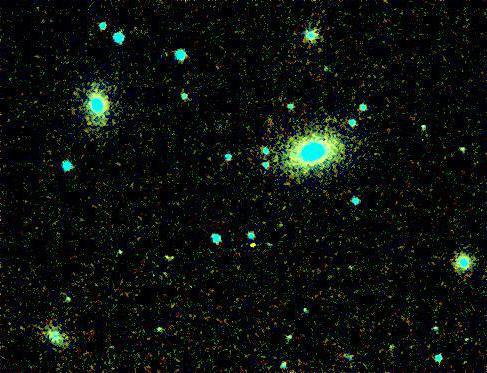star: (234, 234, 264, 264)
